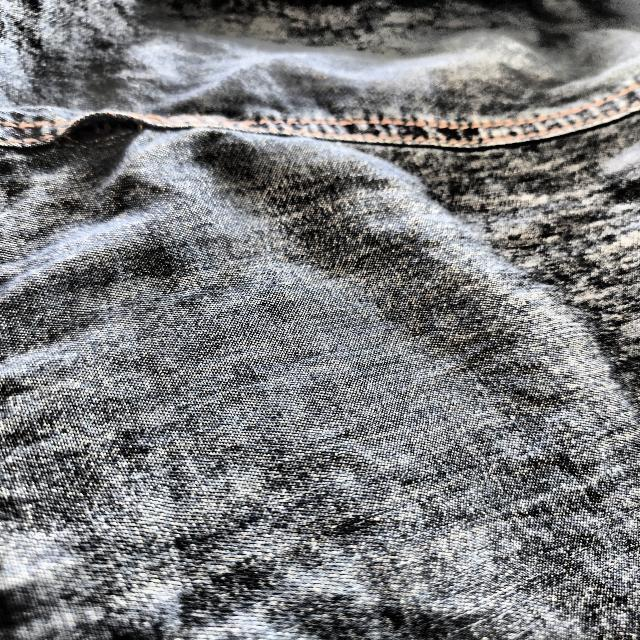gray stitch: (39, 110, 161, 160)
